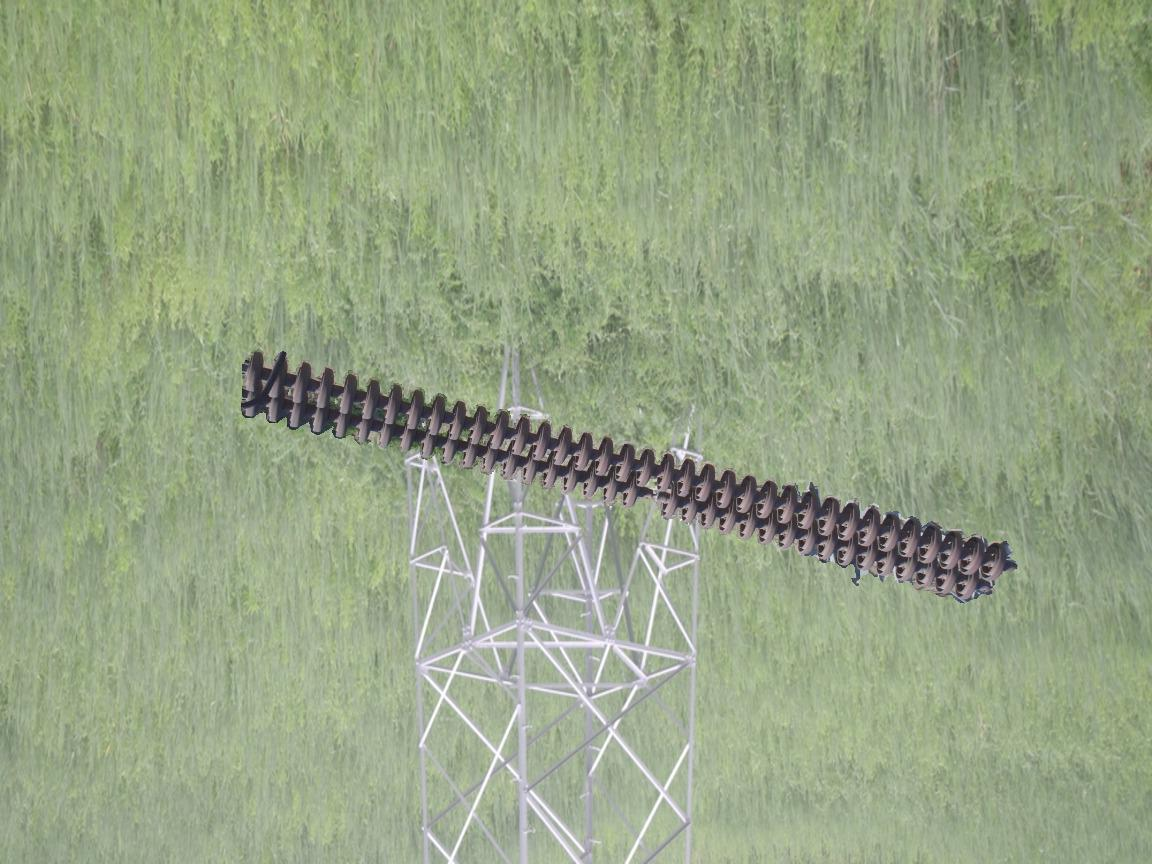insulator: (233, 346, 1016, 610)
insulator_stringdrop: (619, 478, 680, 522)
